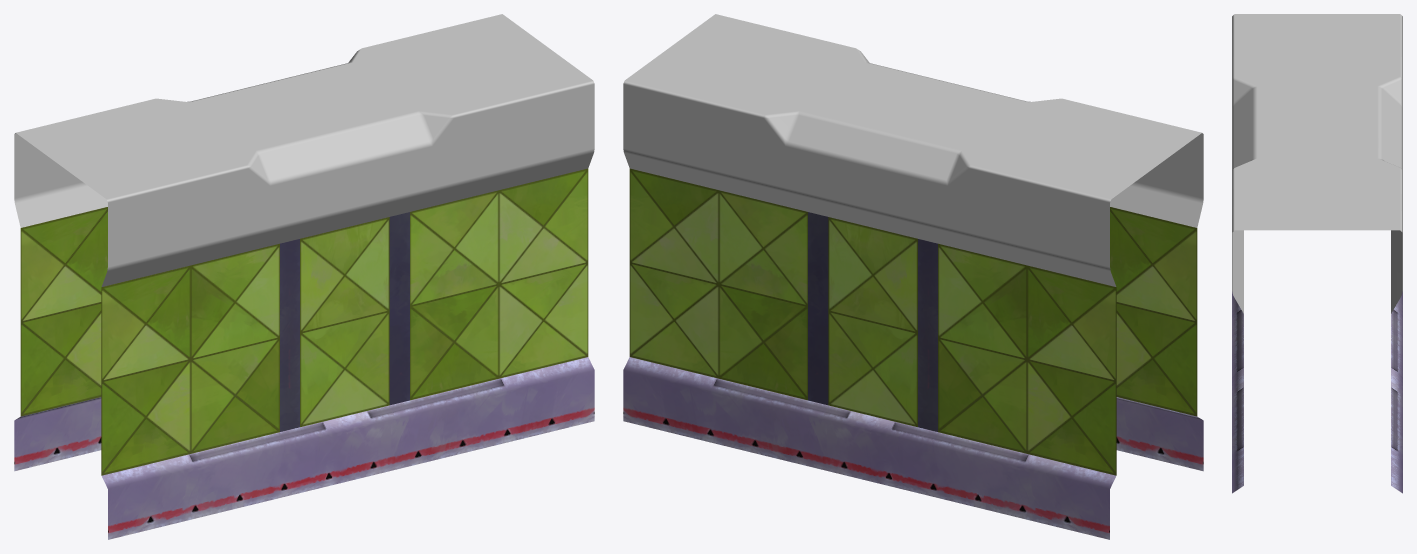
File: SM_SmallWall_Middle.fbx
3 renders of one model, left to right at view 1: azimuth 30°, elevation 25°; view 2: azimuth 150°, elevation 25°; view 3: azimuth 270°, elevation 25°, orthographic. The views are drawn at different scales.
Visible parts, largest first — view 1: SM_SmallWall_Middle; view 2: SM_SmallWall_Middle; view 3: SM_SmallWall_Middle.
Boxes of the visible parts, <box> form: SM_SmallWall_Middle: <box>14,14,594,539</box>; SM_SmallWall_Middle: <box>623,14,1203,539</box>; SM_SmallWall_Middle: <box>1232,14,1402,493</box>.
Bounding box in the file's own units: 600 × 400 × 200.
